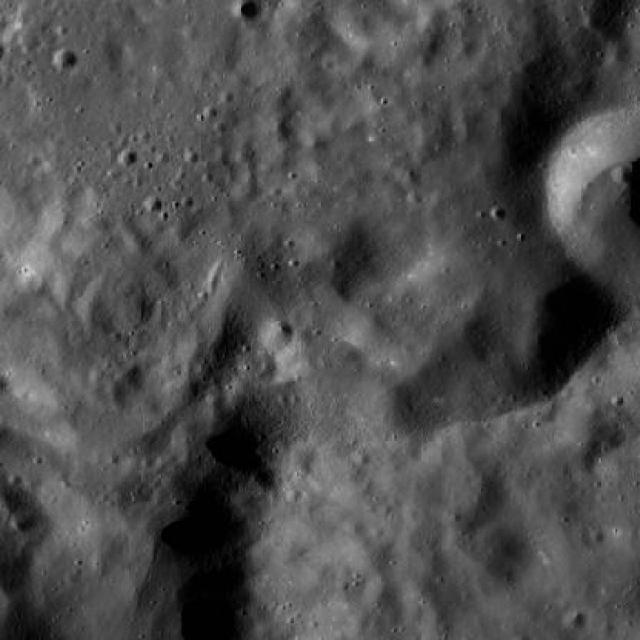crater: (173, 390, 290, 498), (463, 521, 537, 590), (562, 388, 630, 452), (334, 289, 394, 346), (446, 457, 506, 514), (276, 330, 333, 384), (351, 538, 394, 580), (256, 318, 293, 352), (366, 576, 402, 610), (247, 466, 276, 494), (421, 440, 450, 468), (568, 448, 596, 474), (290, 444, 315, 467), (608, 162, 632, 184), (608, 42, 632, 64), (52, 46, 76, 68), (233, 0, 259, 20), (278, 544, 300, 566), (346, 612, 368, 632), (458, 38, 480, 58), (566, 610, 586, 630), (582, 13, 602, 32), (8, 512, 27, 531), (130, 292, 150, 310), (353, 448, 372, 466), (403, 170, 422, 188), (346, 514, 364, 532), (118, 149, 137, 166), (120, 362, 137, 380), (237, 492, 254, 510), (146, 196, 162, 212), (106, 381, 123, 396)
